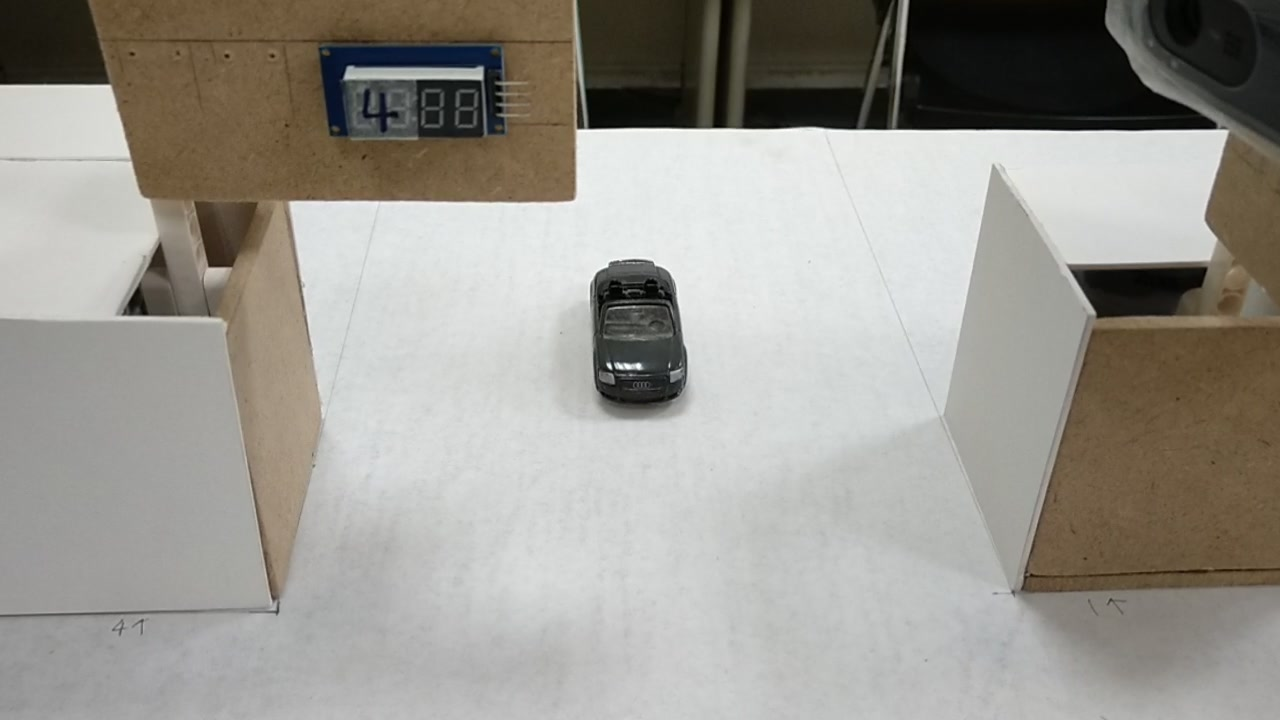car: (586, 259, 694, 404)
